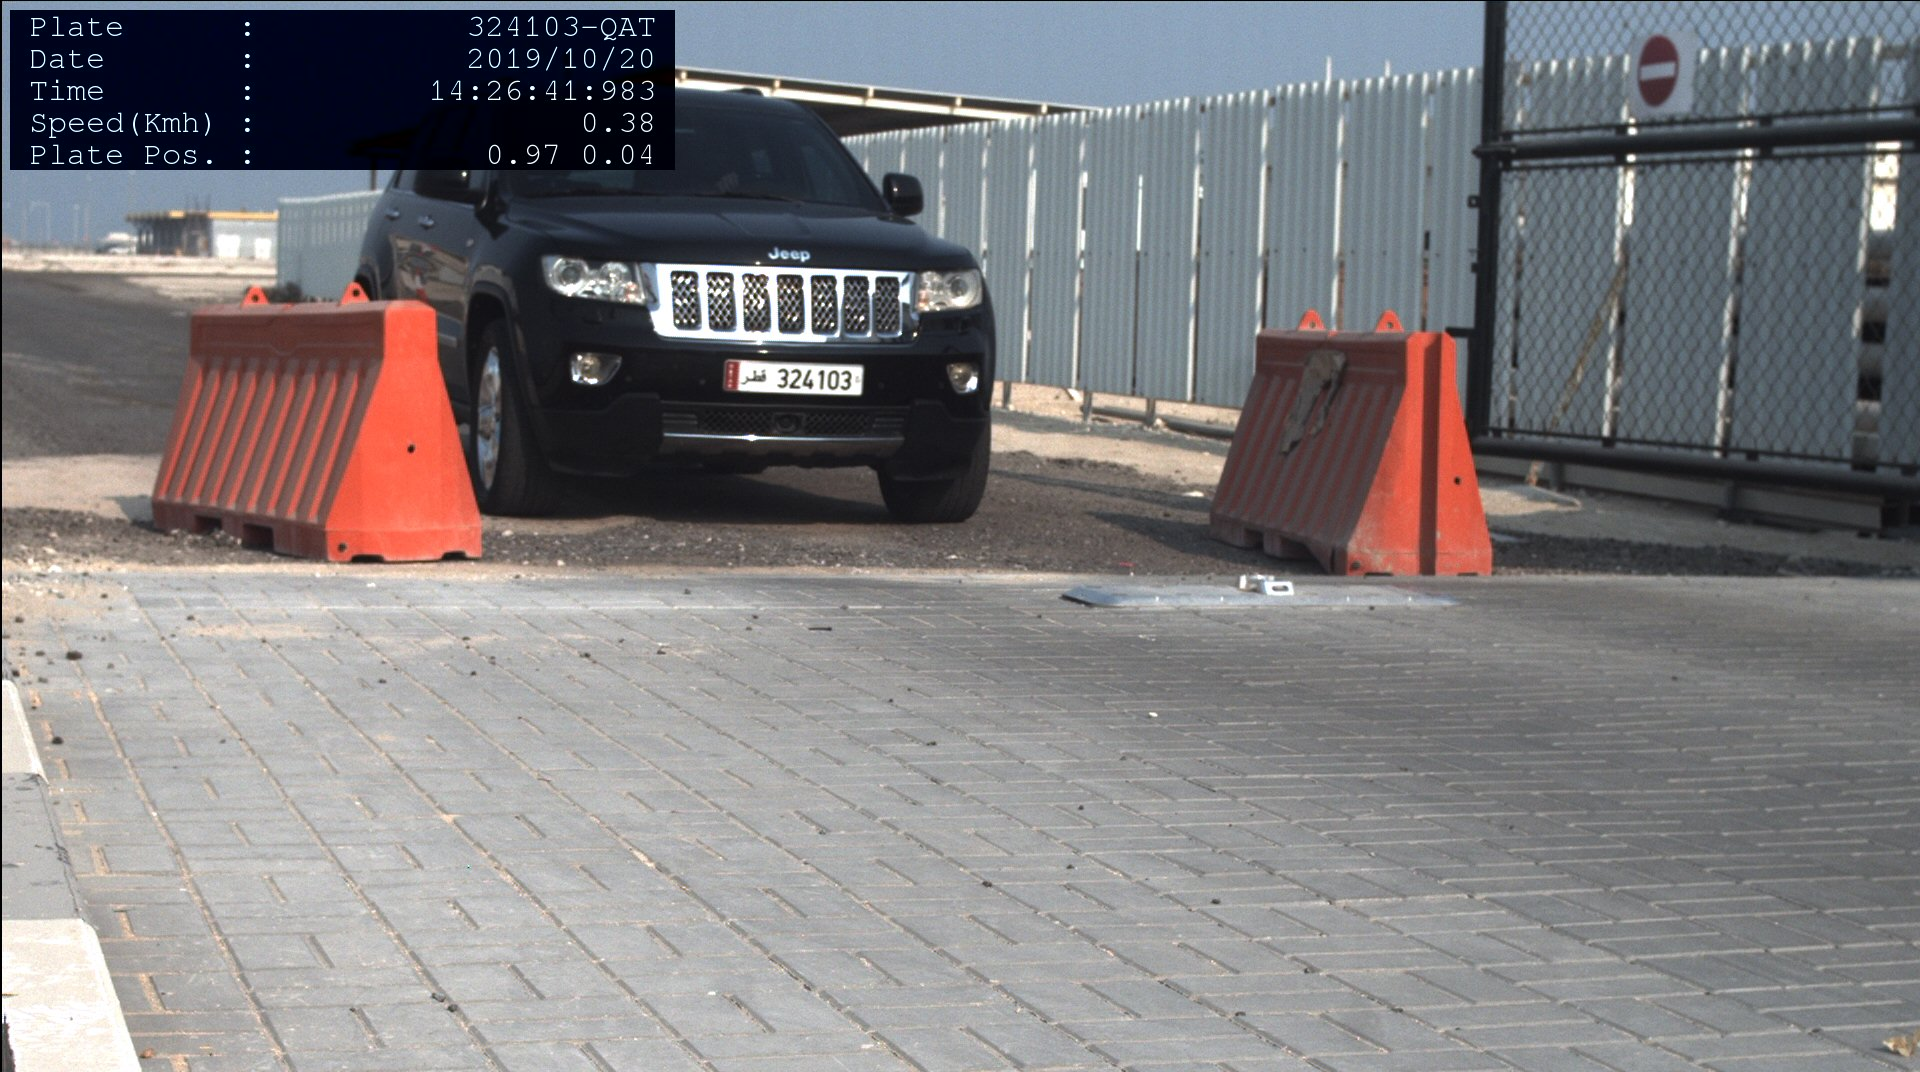License Plate: (727, 362, 864, 395)
